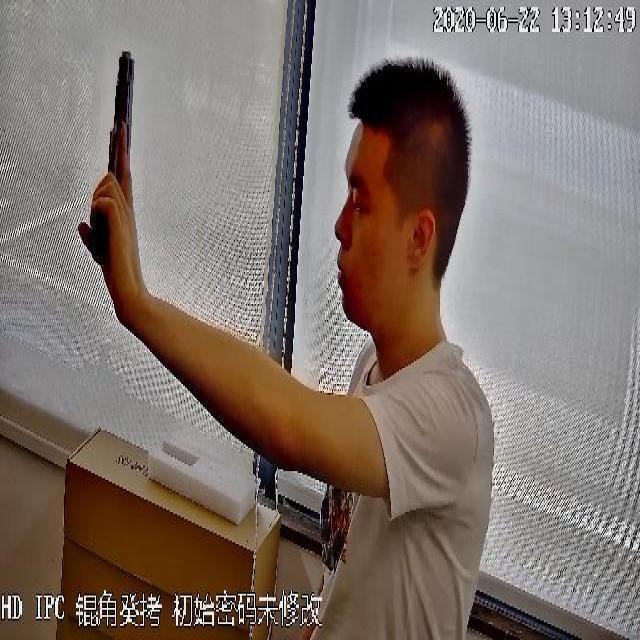pistol: (86, 44, 136, 270)
